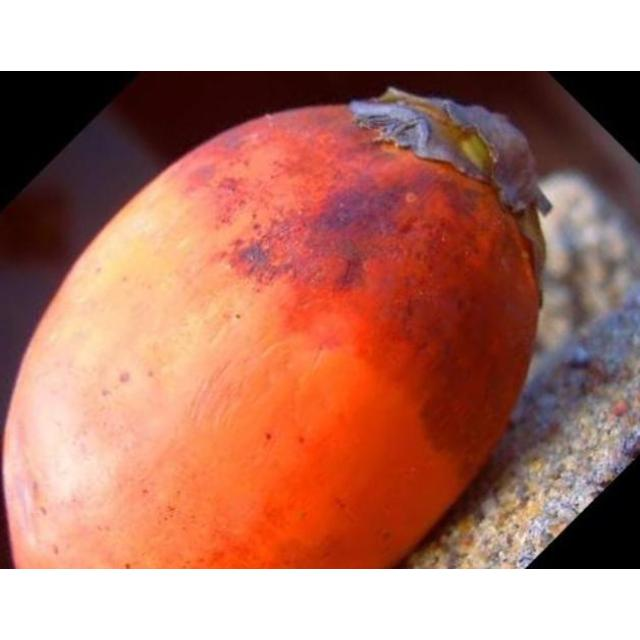good: (0, 88, 551, 568)
